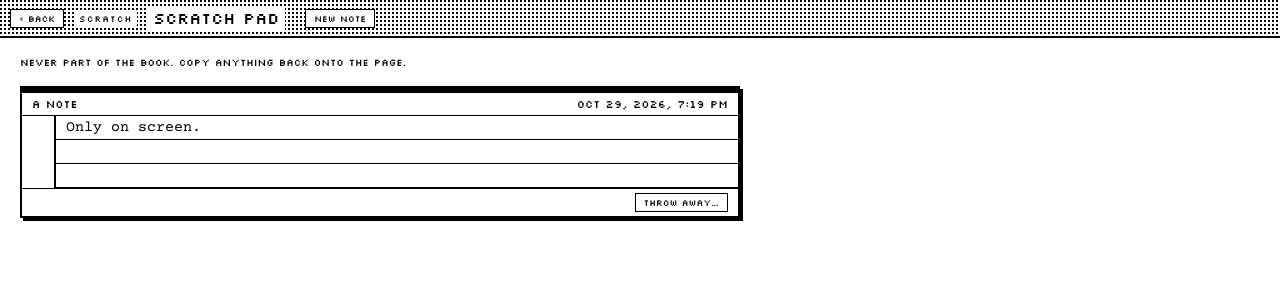
it: the pad › keeps a scrap whose newest text failed to write, rather than throwing it away
The image size is (1280, 291).
Click the button "Throw Away…".
click(681, 202)  # box [635,193,728,212]
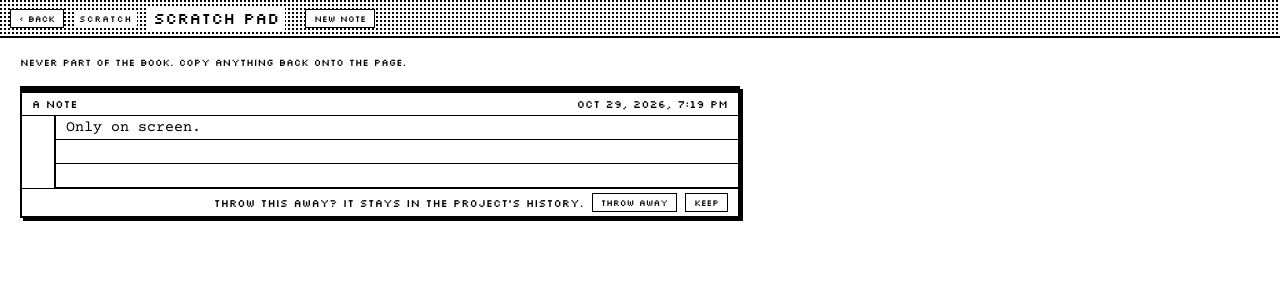
Click the button "Throw Away".
click(634, 202)  # box [592,193,677,212]
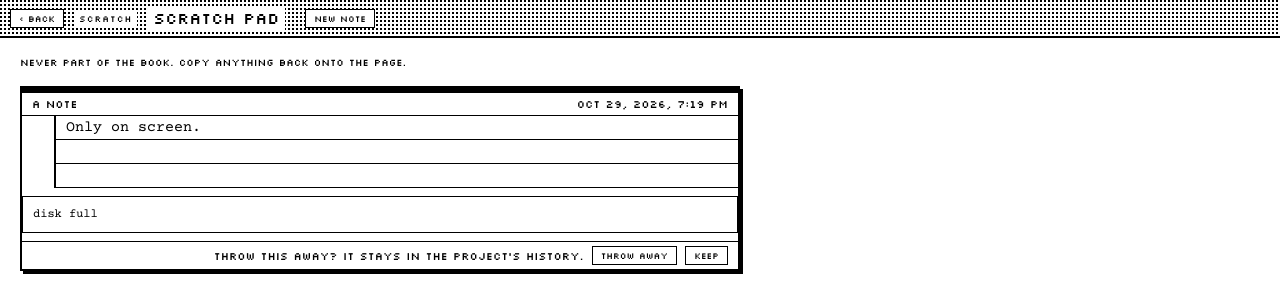
Expected: the text box labelled "Only on screen." is shown, [66,119,201,136]
Expected: the message reads "disk full", [33,208,98,221]
